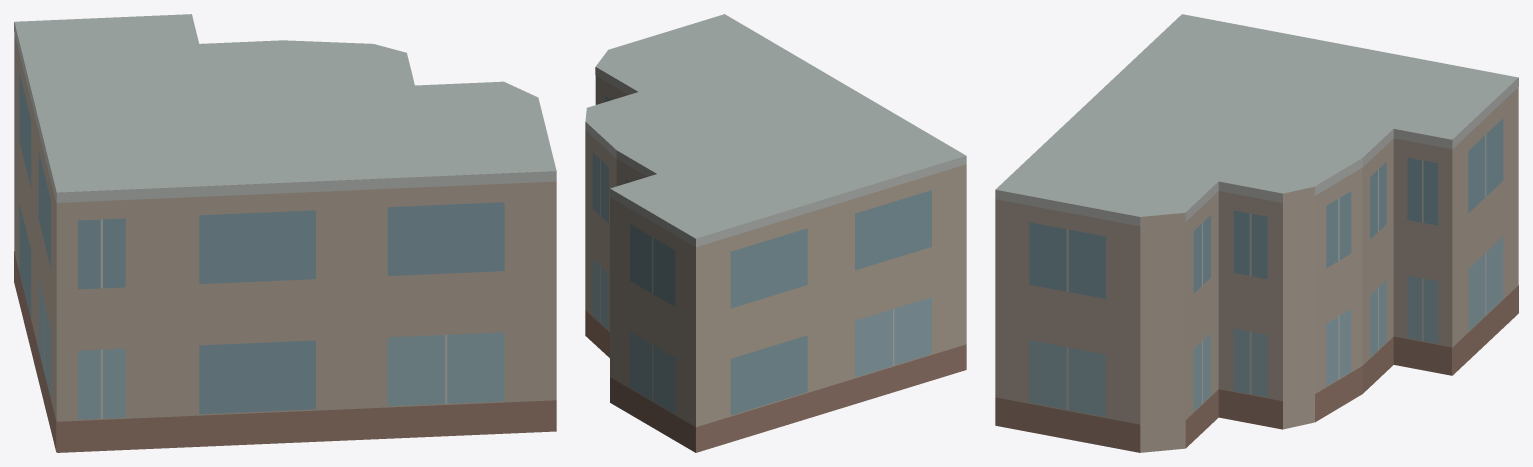
File: survey-upis-32624520.glb
3 views of the same model, side by side, from view 1: azimuth 30°, elevation 25°; view 2: azimuth 150°, elevation 25°; view 3: azimuth 270°, elevation 25° (orthographic). The views are drawn at different scales.
Visible parts, largest first — view 1: survey-upis-32624520.tmp; view 2: survey-upis-32624520.tmp; view 3: survey-upis-32624520.tmp.
Boxes of the visible parts, <box> form: survey-upis-32624520.tmp: <box>14,14,556,452</box>; survey-upis-32624520.tmp: <box>585,14,966,452</box>; survey-upis-32624520.tmp: <box>995,14,1518,452</box>.
Bounding box in the file's own units: 11.26 × 6.1 × 12.28.
